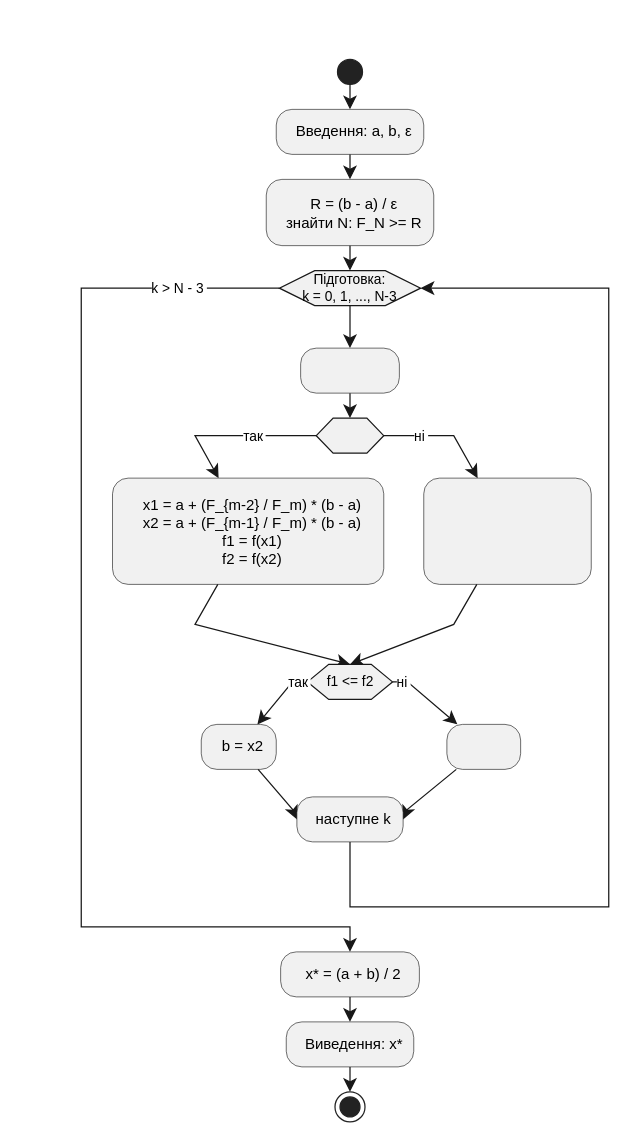
This 643x1144 diagram has some shape labels left out. Here are the shapes that lost their labels. From the top down, the centre of each, then its label:
the point at 349,370: m = N - k
the point at 349,435: m > 3
the point at 507,530: x1 = a + (b - a) / 2 x2 = x1 + δ f1 = f(x1) f2 = f(x2)
the point at 483,746: a = x1
